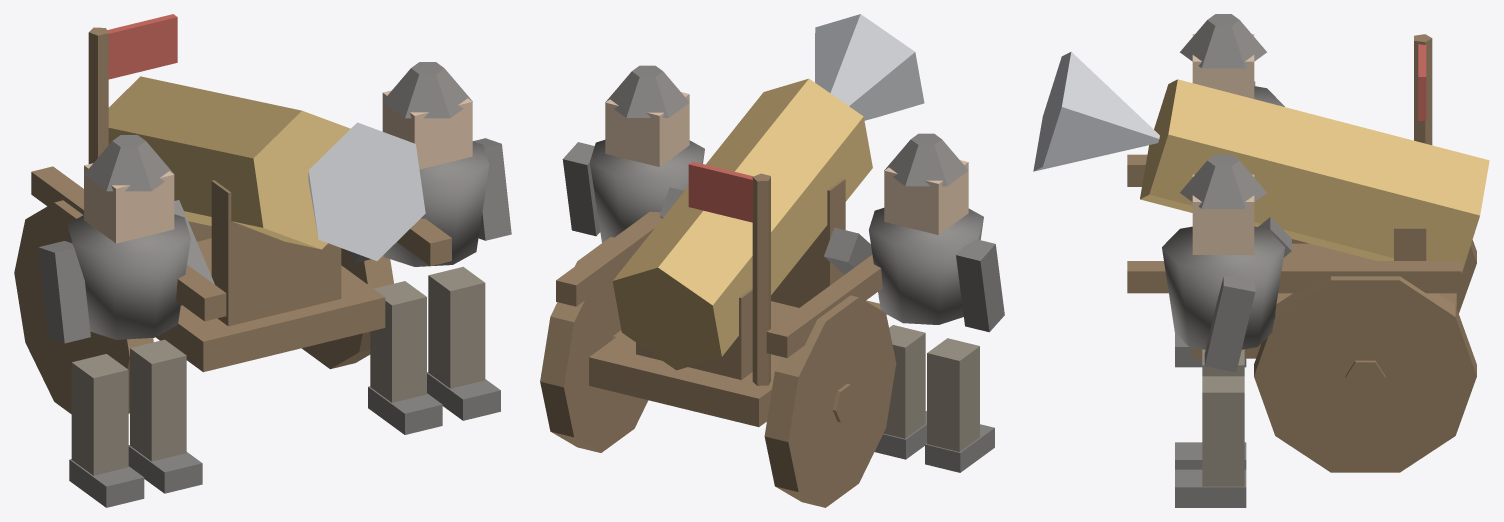
Rendered from troop-thunder-cart.glb.
The picture shows the model from 3 angles, left to right: view 1: azimuth 30°, elevation 25°; view 2: azimuth 150°, elevation 25°; view 3: azimuth 270°, elevation 25°; orthographic projection. The views are drawn at different scales.
Parts seen in each view (by area): view 1: ram, ram_tip, crew0_torso, support_f, body, wheel_l, crew0_leg_l, crew1_leg_r, crew0_leg_r, crew1_torso, crew1_leg_l, crew0_head (+15 smaller); view 2: ram, wheel_l, wheel_r, crew0_torso, body, ram_tip, crew1_torso, crew0_leg_l, crew0_head, crew1_head, flag_pole, rail_l (+13 smaller); view 3: ram, wheel_r, crew1_torso, ram_tip, rail_r, crew1_leg_r, crew1_arm_out, crew1_head, crew0_helmet, crew1_helmet, crew1_foot_r, crew0_head (+10 smaller).
Boxes of the visible parts, <box> form: ram: <box>108,76,350,249</box>; ram_tip: <box>308,122,425,260</box>; crew0_torso: <box>67,214,190,339</box>; support_f: <box>211,180,341,326</box>; body: <box>155,238,385,372</box>; wheel_l: <box>14,200,153,414</box>; crew0_leg_l: <box>71,354,128,475</box>; crew1_leg_r: <box>428,266,485,388</box>; crew0_leg_r: <box>130,339,186,461</box>; crew1_torso: <box>383,141,489,266</box>; crew1_leg_l: <box>370,281,426,402</box>; crew0_head: <box>84,163,174,243</box>; ram: <box>612,78,872,370</box>; wheel_l: <box>764,295,896,507</box>; wheel_r: <box>540,237,648,452</box>; crew0_torso: <box>869,208,983,324</box>; body: <box>589,300,886,426</box>; ram_tip: <box>815,14,924,120</box>; crew1_torso: <box>590,140,704,242</box>; crew0_leg_l: <box>927,338,979,451</box>; crew0_head: <box>884,160,968,234</box>; crew1_head: <box>605,92,689,166</box>; flag_pole: <box>752,173,770,385</box>; rail_l: <box>766,255,882,357</box>; ram: <box>1140,79,1489,273</box>; wheel_r: <box>1254,276,1476,472</box>; crew1_torso: <box>1162,226,1284,349</box>; ram_tip: <box>1033,51,1159,171</box>; rail_r: <box>1127,261,1461,293</box>; crew1_leg_r: <box>1202,376,1244,486</box>; crew1_arm_out: <box>1204,276,1255,372</box>; crew1_head: <box>1192,174,1254,254</box>; crew0_helmet: <box>1180,14,1266,68</box>; crew1_helmet: <box>1180,154,1266,208</box>; crew1_foot_r: <box>1175,469,1246,507</box>; crew0_head: <box>1192,34,1254,98</box>.
Bounding box in the file's own units: 0.2456 × 0.1978 × 0.2251.
